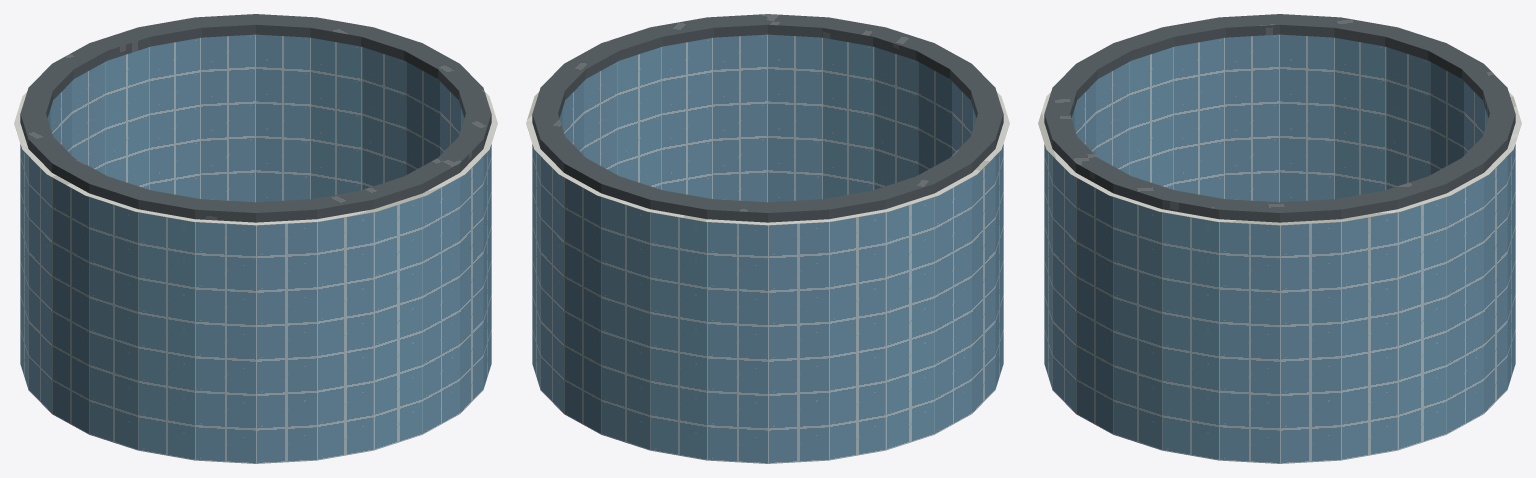
The model's file is hot_tub.glb.
The picture shows the model from 3 angles, left to right: view 1: azimuth 30°, elevation 25°; view 2: azimuth 150°, elevation 25°; view 3: azimuth 270°, elevation 25°; orthographic projection.
Visible parts, largest first — view 1: core_hot_tub; view 2: core_hot_tub; view 3: core_hot_tub.
Part boxes in pixels (x1=…): core_hot_tub: x1=14, y1=14, x2=497, y2=463; core_hot_tub: x1=526, y1=14, x2=1009, y2=463; core_hot_tub: x1=1038, y1=14, x2=1521, y2=463.
Size of the model in its own units: 2.67 by 1.56 by 2.67.
Materials: 3 (3 with a texture image).
